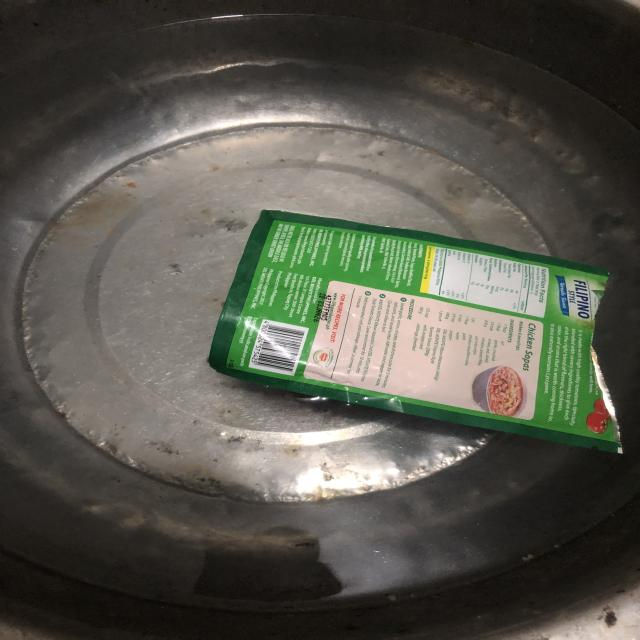Plastic Pouch: (209, 210, 622, 452)
